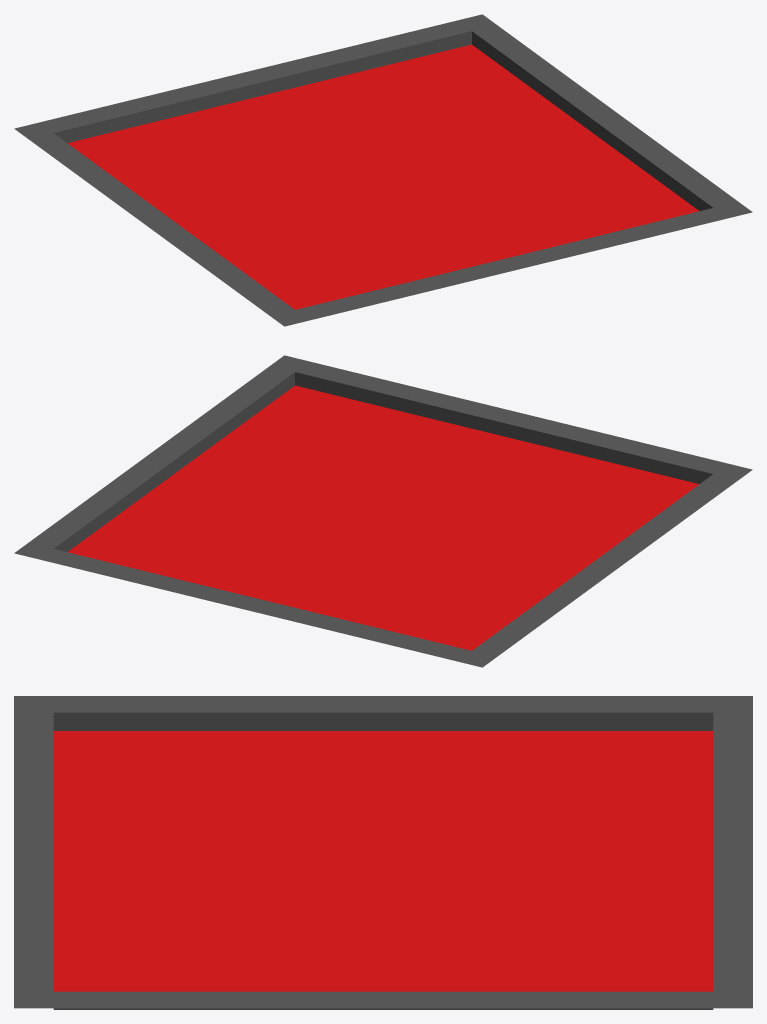
File: FloorCurb.fbx
The picture shows the model from 3 angles, top to bottom: view 1: azimuth 30°, elevation 25°; view 2: azimuth 150°, elevation 25°; view 3: azimuth 270°, elevation 25°; orthographic projection. The views are drawn at different scales.
Visible parts, largest first — view 1: Plane; view 2: Plane; view 3: Plane.
Part boxes in pixels (x1,y1,x2,y2): Plane: (14, 14, 752, 326); Plane: (14, 355, 752, 667); Plane: (14, 696, 752, 1009).
Size of the model in its own units: 500 by 13.7 by 500.
